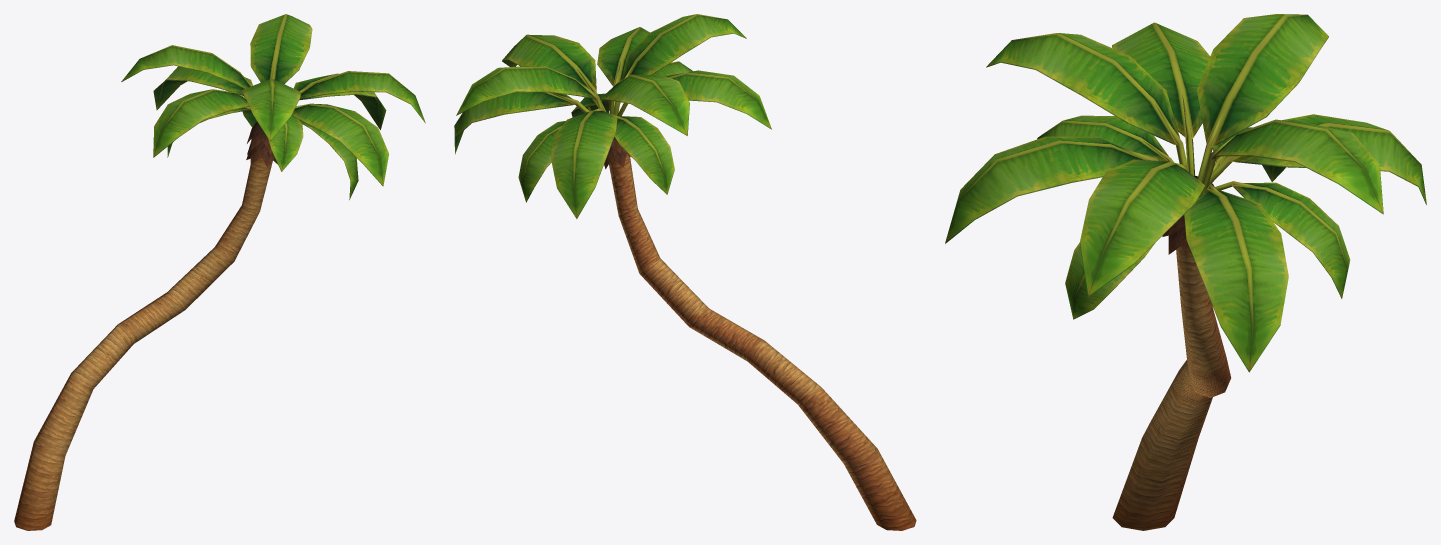
Rendered from PalmTree_02.FBX.
The picture shows the model from 3 angles, left to right: view 1: azimuth 30°, elevation 25°; view 2: azimuth 150°, elevation 25°; view 3: azimuth 270°, elevation 25°; orthographic projection. The views are drawn at different scales.
Parts seen in each view (by area): view 1: PalmTree_02; view 2: PalmTree_02; view 3: PalmTree_02.
Boxes of the visible parts, x1,y1,x2,y2 form: PalmTree_02: (14, 14, 425, 530); PalmTree_02: (454, 14, 916, 530); PalmTree_02: (945, 14, 1426, 530).
Size of the model in its own units: 4.36 by 2.83 by 4.24.
